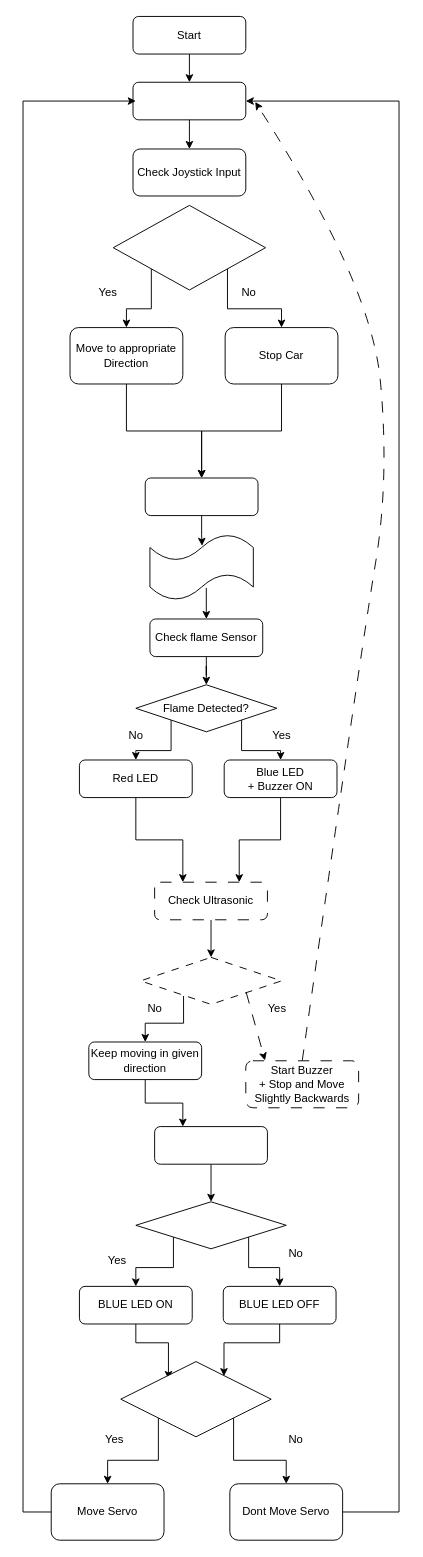
Some shapes in this 423 by 1557 pixel diagram are drawn without their labels. The box of each missing label's shape, as (x1, y1, x2, y2) in pixels:
Above or below thresholds for directions?: (112, 204, 266, 290)
Check LDR: (144, 477, 258, 516)
Check Motion Sensor: (154, 1126, 267, 1164)
Continuous Loop: (132, 81, 246, 120)
Delay over?: (120, 1361, 271, 1437)
Distance < 7 cm?: (140, 956, 282, 1004)
Motion Detected?: (135, 1201, 286, 1249)
Output to LED: (149, 533, 253, 600)
